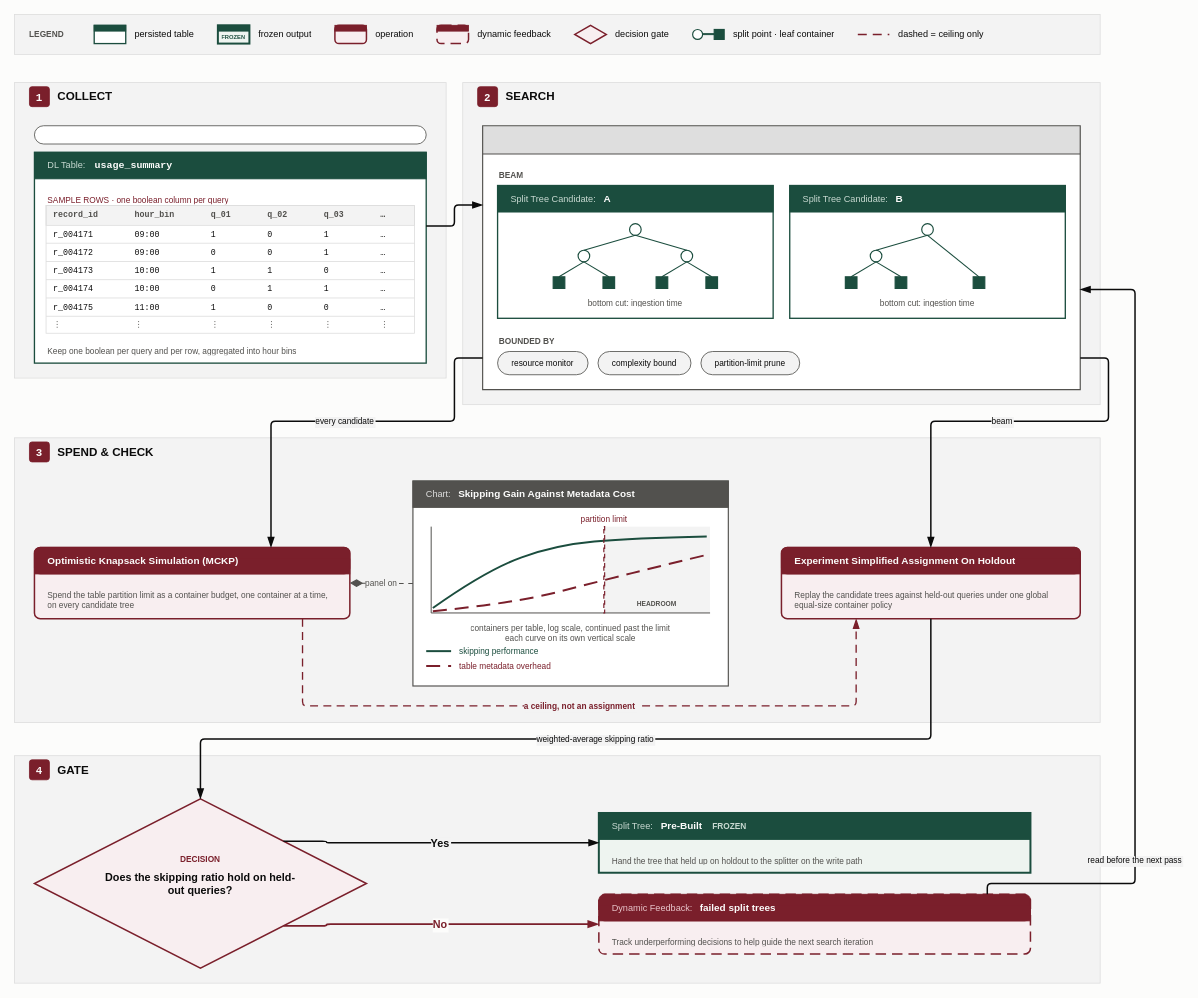
The diagram is 1198 pixels wide and 998 high, and some of its shapes have lost their labels. Each missing label, with the box of its shape:
ONLY RAW INPUT: (34, 125, 426, 144)
OPTIMIZE SPLIT DECISION TREES: (482, 125, 1080, 390)
